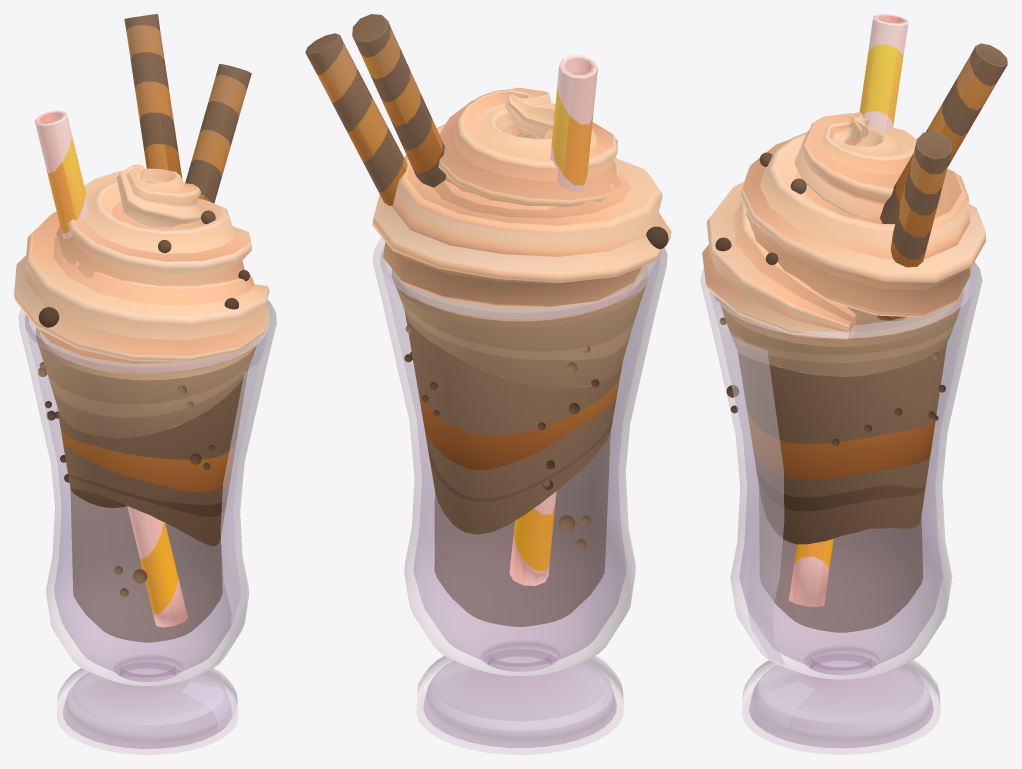
Rendered from coffee.glb.
The picture shows the model from 3 angles, left to right: view 1: azimuth 30°, elevation 25°; view 2: azimuth 150°, elevation 25°; view 3: azimuth 270°, elevation 25°; orthographic projection. The views are drawn at different scales.
Visible parts, largest first — view 1: IcedCoffee_03; view 2: IcedCoffee_03; view 3: IcedCoffee_03.
Part boxes in pixels (x1,y1,x2,y2): IcedCoffee_03: (14, 14, 276, 754); IcedCoffee_03: (305, 14, 671, 754); IcedCoffee_03: (700, 14, 1007, 754).
Bounding box in the file's own units: 0.9151 × 2.14 × 0.8538.
2 materials, 2 textured.
